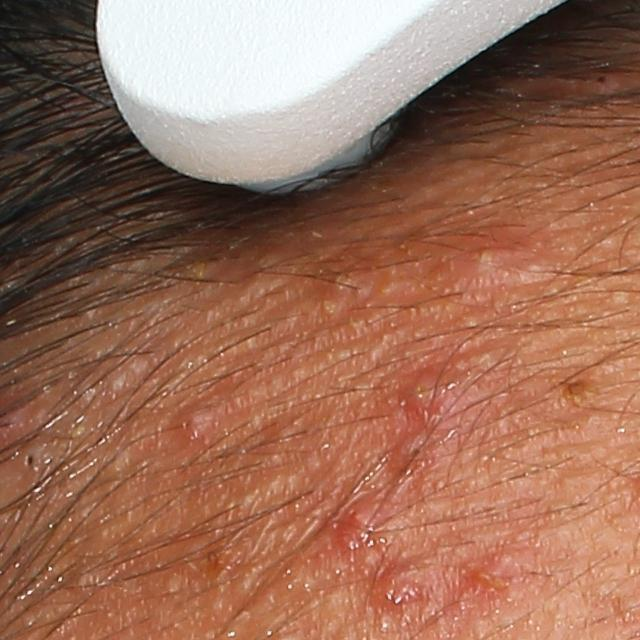comedo: (318, 255, 377, 303), (18, 432, 63, 480), (69, 560, 105, 597), (110, 372, 130, 394)
papule: (463, 232, 533, 274), (378, 561, 429, 611), (400, 370, 448, 414), (176, 398, 223, 440), (473, 555, 523, 594)
